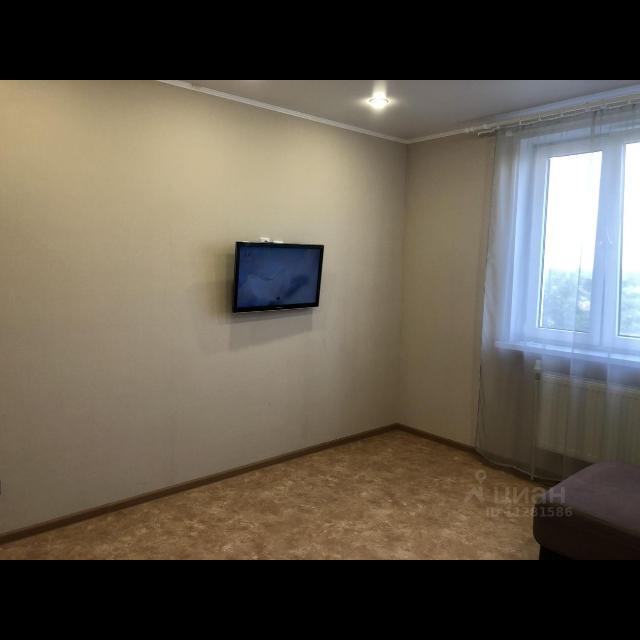Flat-Panel-TV: (234, 243, 322, 313)
